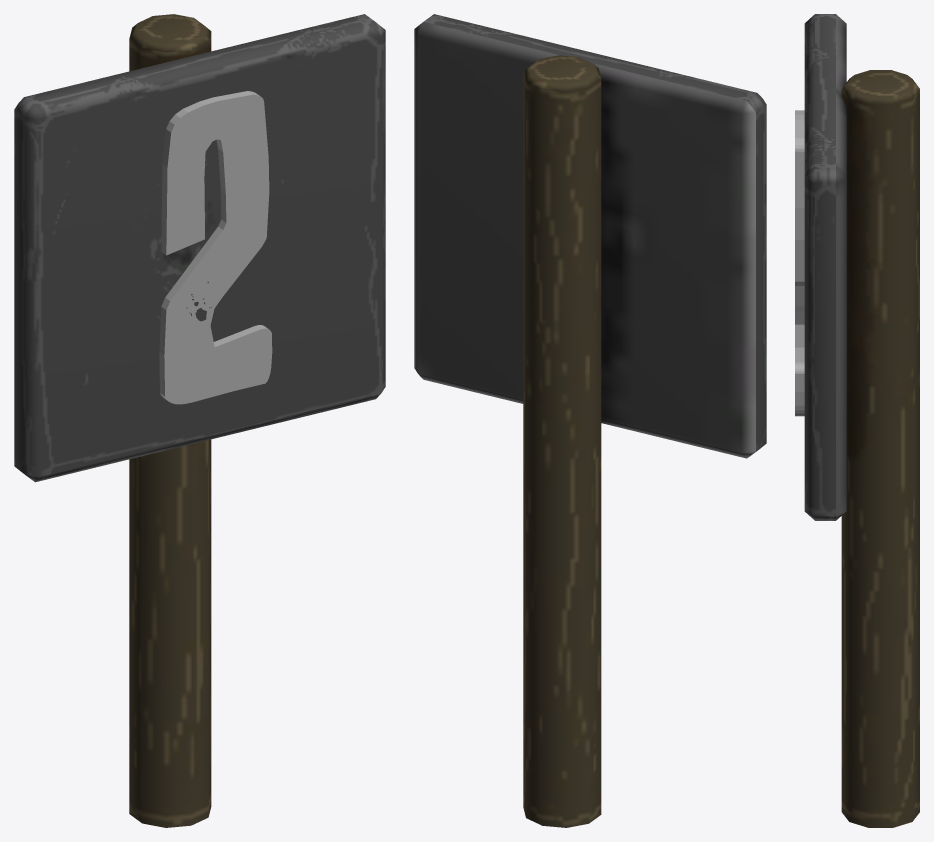
File: sign2.fbx
3 views of the same model, side by side, from view 1: azimuth 30°, elevation 25°; view 2: azimuth 150°, elevation 25°; view 3: azimuth 270°, elevation 25° (orthographic). The views are drawn at different scales.
Visible parts, largest first — view 1: sign2; view 2: sign2; view 3: sign2.
Boxes of the visible parts, box(x1,y1,x2,y2) form: sign2: box(14, 14, 385, 827); sign2: box(414, 14, 766, 827); sign2: box(795, 14, 919, 827).
Bounding box in the file's own units: 1 × 2.07 × 0.3216.
Materials: 1 (1 with a texture image).
